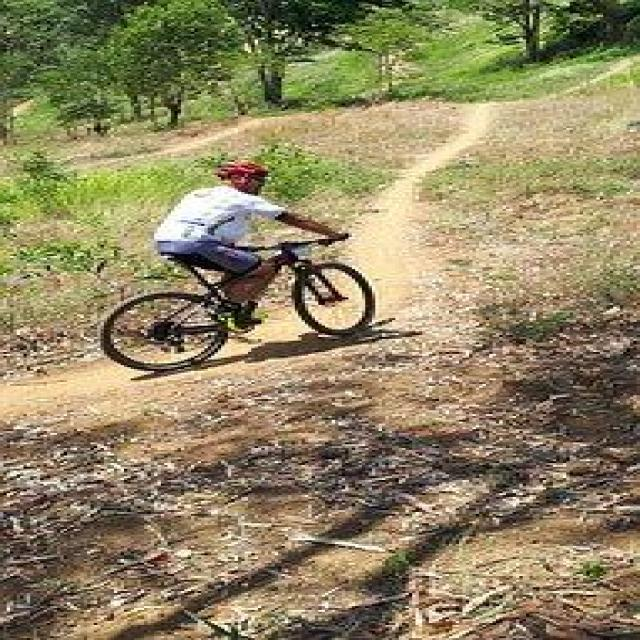bikerider: (77, 148, 389, 360)
